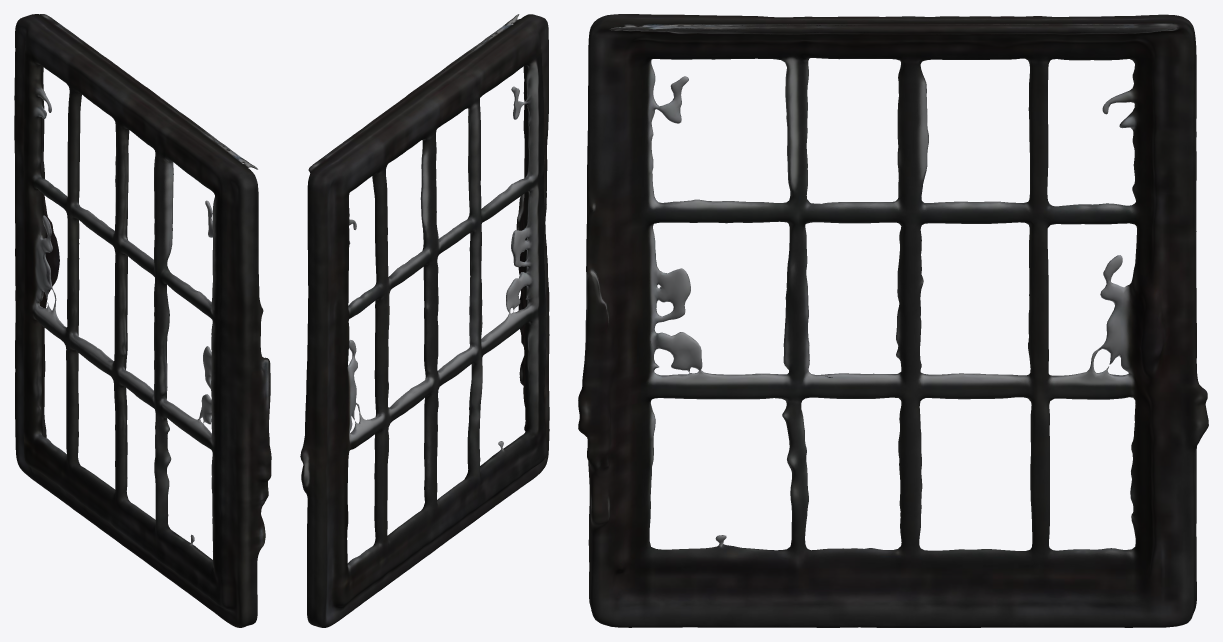
Rendered from Window-2.glb.
3 renders of one model, left to right at view 1: azimuth 30°, elevation 25°; view 2: azimuth 150°, elevation 25°; view 3: azimuth 270°, elevation 25°, orthographic. The views are drawn at different scales.
Parts seen in each view (by area): view 1: world; view 2: world; view 3: world.
Boxes of the visible parts, x1,y1,x2,y2 form: world: (14,14,271,627); world: (300,14,549,627); world: (578,14,1208,627).
Bounding box in the file's own units: 0.0405 × 0.4587 × 0.4323.
Materials: 1 (1 with a texture image).
